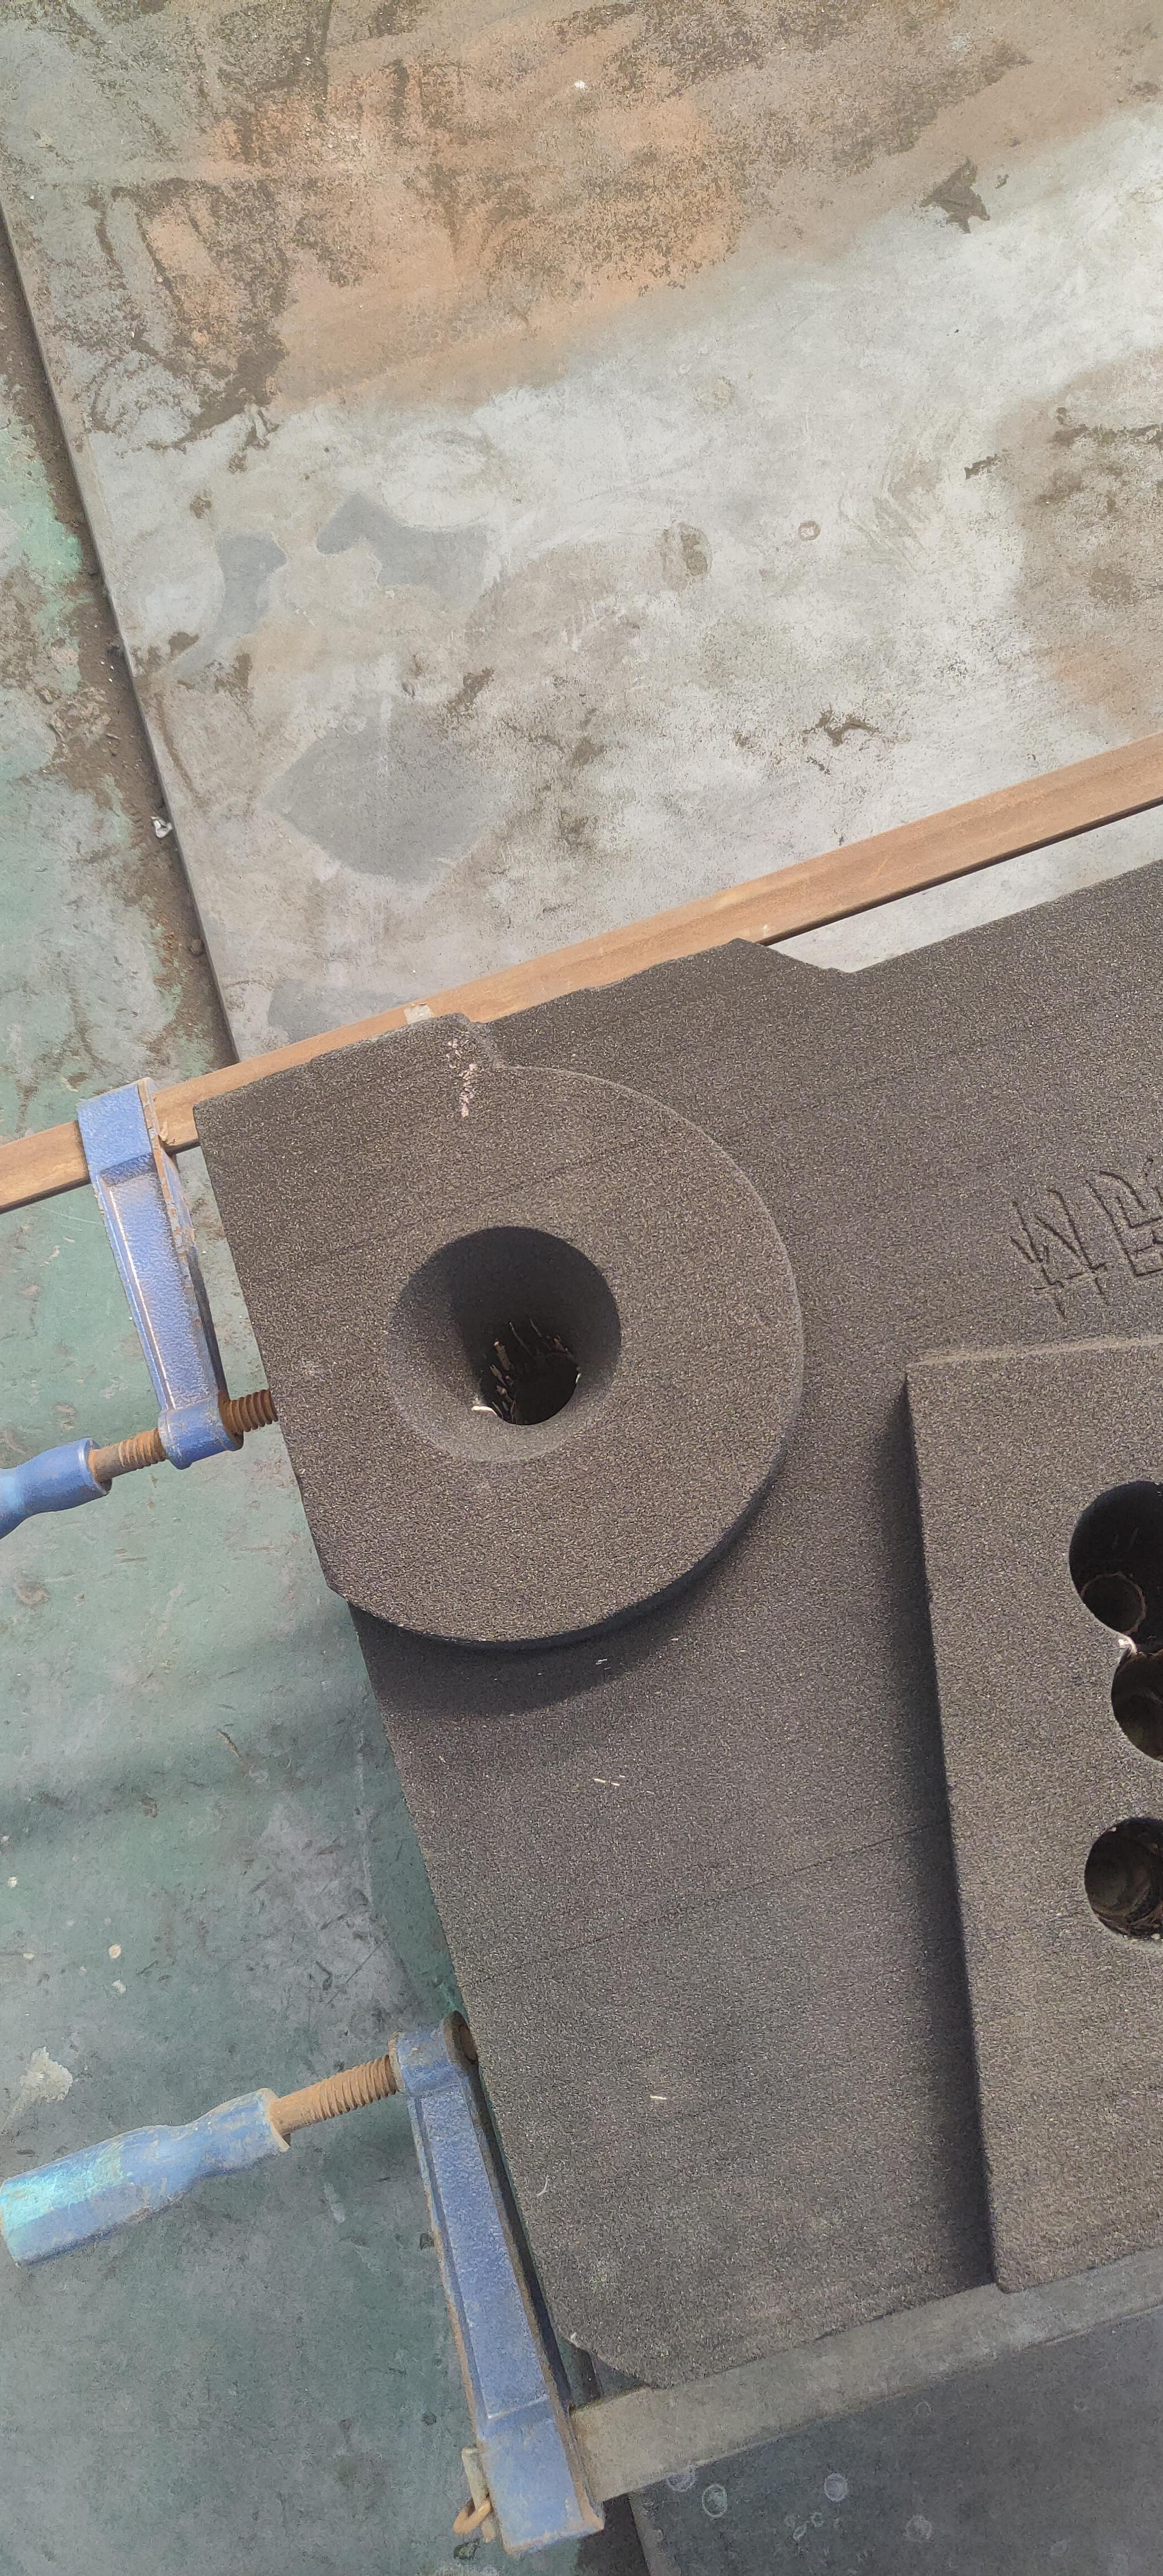pouring hole: (383, 1219, 626, 1461)
